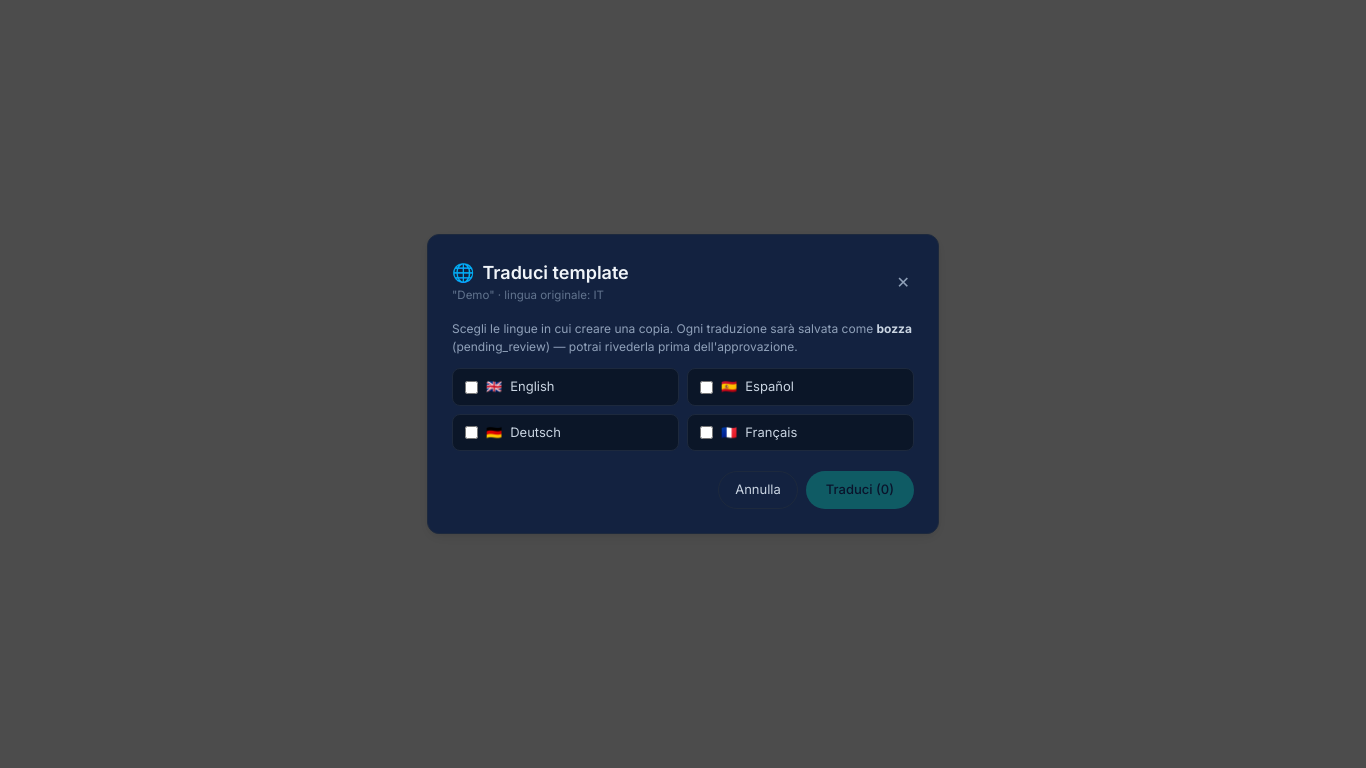
Test: <TranslateDialog> › shows upgrade message on 402
The width and height of the screenshot is (1366, 768).
What coordinates should you click on to do the following:
click the text "English"
I would click on:
 (532, 387)
Its box is [510,377,554,397].
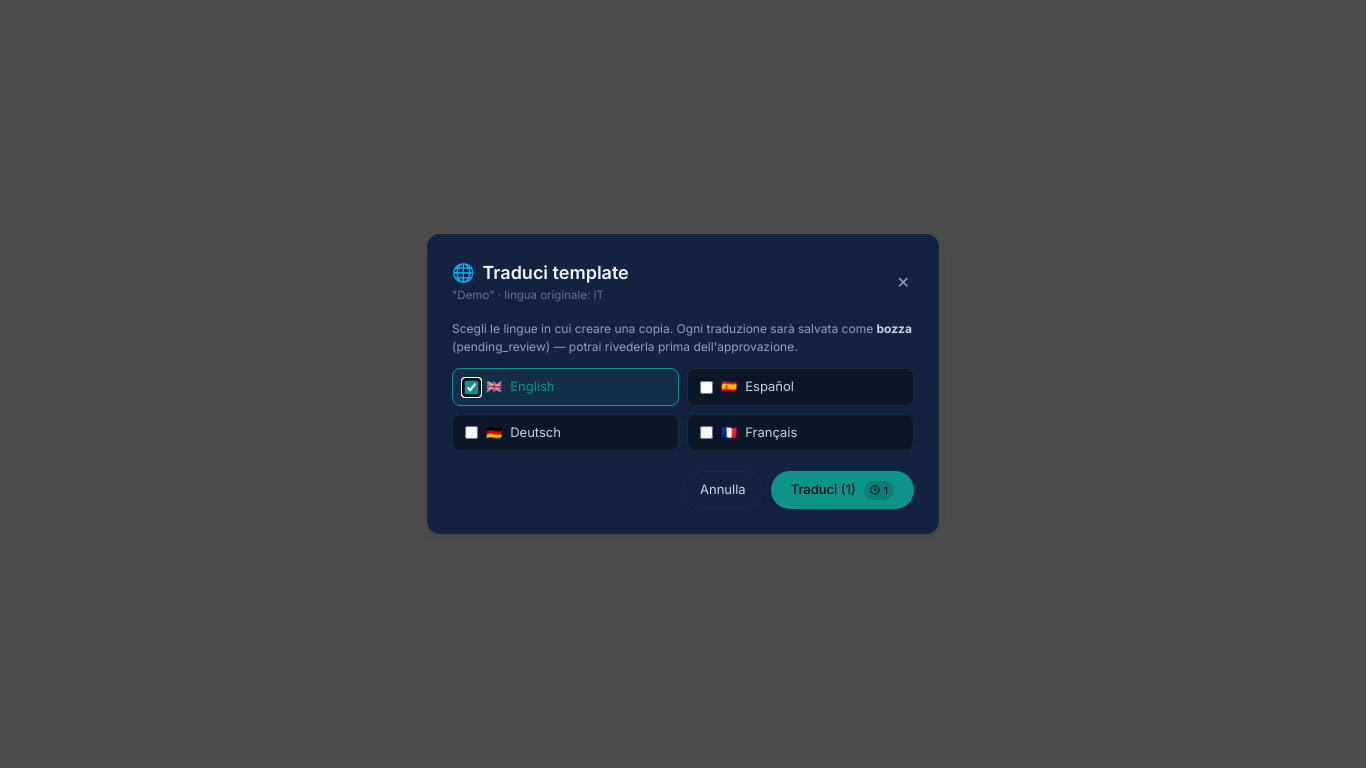
What coordinates should you click on to do the following:
click the button "Traduci (1) 1"
I would click on:
 (842, 490)
Its box is [771,471,914,509].
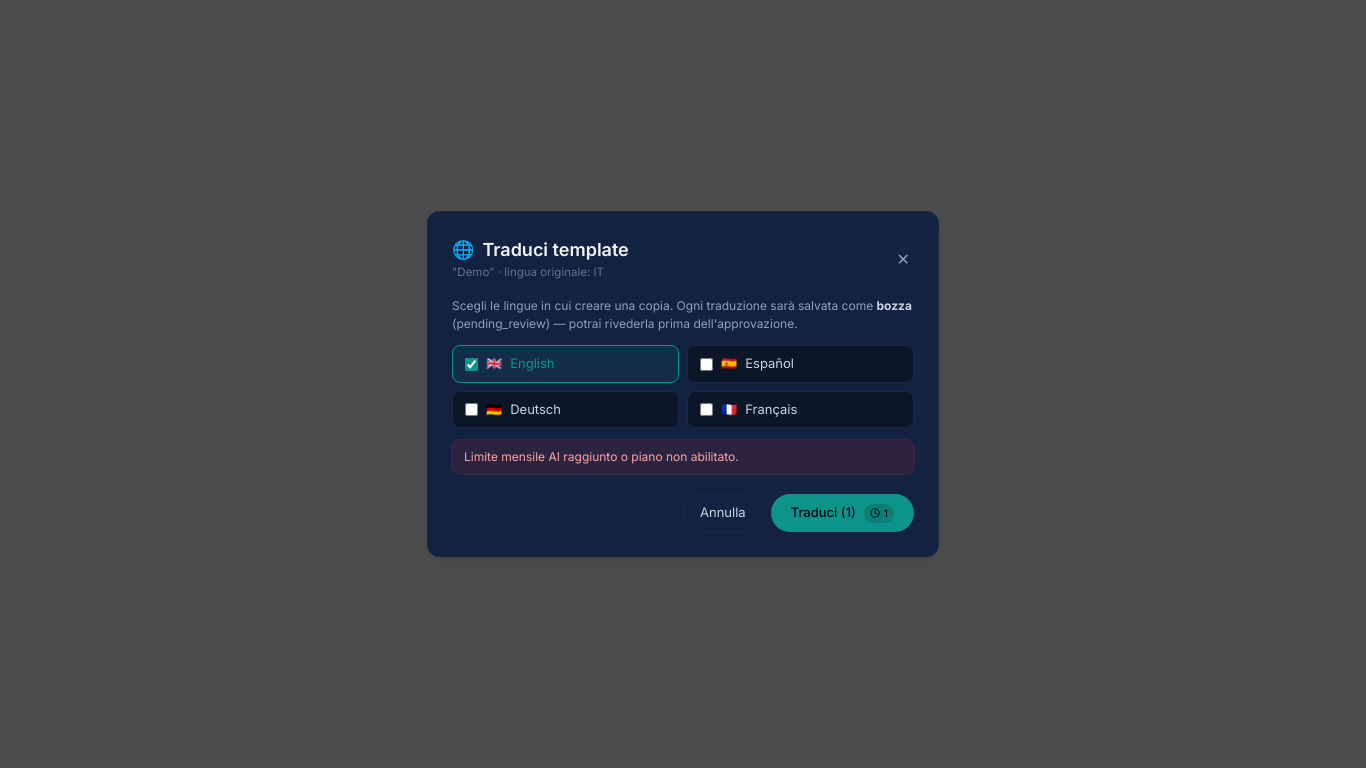
Result: the text "Limite mensile AI raggiunto o piano non abilitato." is shown at [452,440,914,474]
